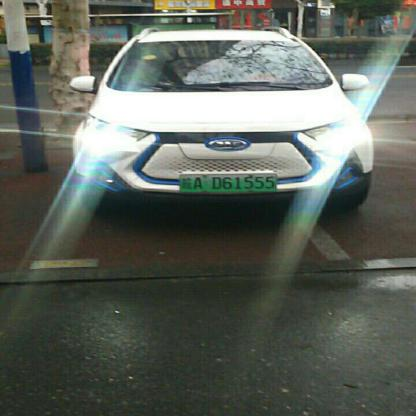lp: (180, 173, 276, 192)
